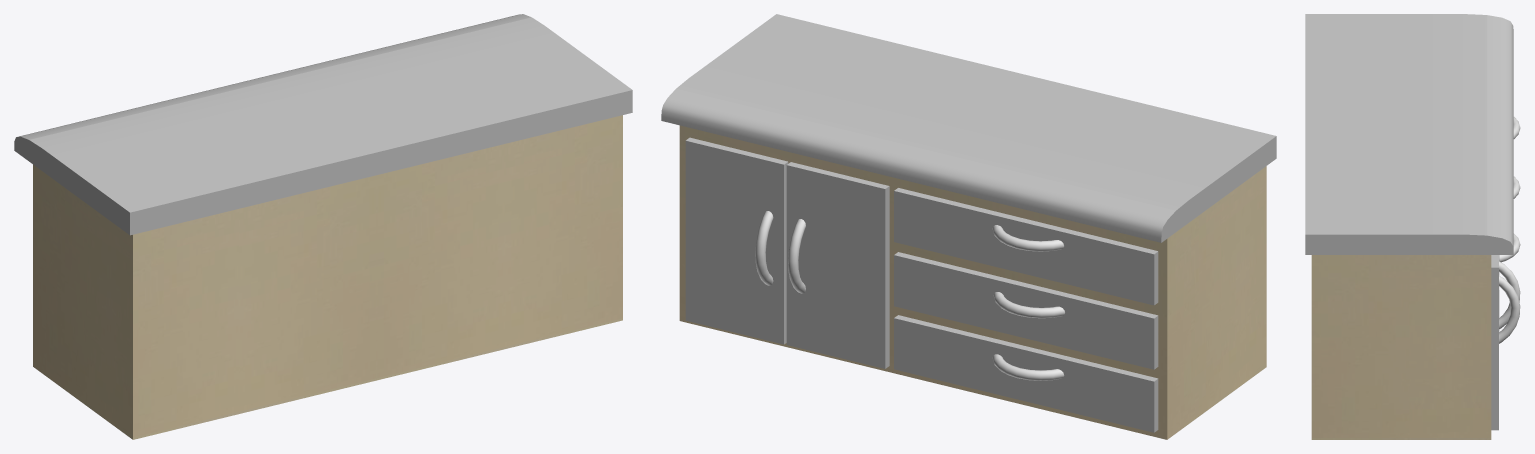
Rendered from szafka.FBX.
The picture shows the model from 3 angles, left to right: view 1: azimuth 30°, elevation 25°; view 2: azimuth 150°, elevation 25°; view 3: azimuth 270°, elevation 25°; orthographic projection. The views are drawn at different scales.
Parts seen in each view (by area): view 1: Box001, Box002; view 2: Box002, Box001, Box004, Box003, Box007, Box005, Box006, Torus004, Torus005, Torus001, Torus002, Torus003; view 3: Box002, Box001, Box003, Torus005, Torus004.
Part boxes in pixels (x1,y1,x2,y2): Box001: (33,115,622,439); Box002: (14,14,632,235); Box002: (661,14,1276,242); Box001: (679,125,1266,439); Box004: (786,162,889,368); Box003: (685,137,788,344); Box007: (894,315,1158,432); Box005: (894,188,1158,305); Box006: (894,252,1158,369); Torus004: (788,219,805,293); Torus005: (755,211,773,285); Torus001: (992,225,1063,251); Torus002: (993,292,1064,318); Torus003: (992,354,1064,380); Box002: (1305,14,1513,254); Box001: (1311,255,1491,439); Box003: (1491,255,1498,430); Torus005: (1499,276,1520,343); Torus004: (1499,261,1520,329).
Bounding box in the file's own units: 206 × 90.48 × 84.73.
